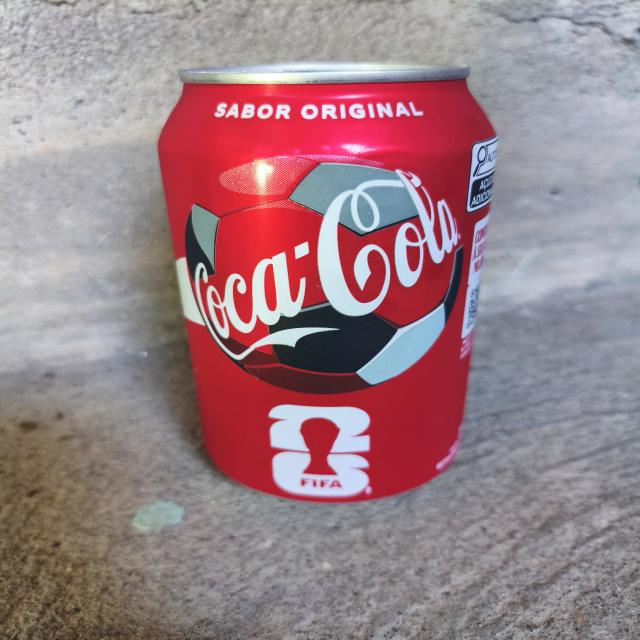Coca Cola: (145, 51, 526, 502)
